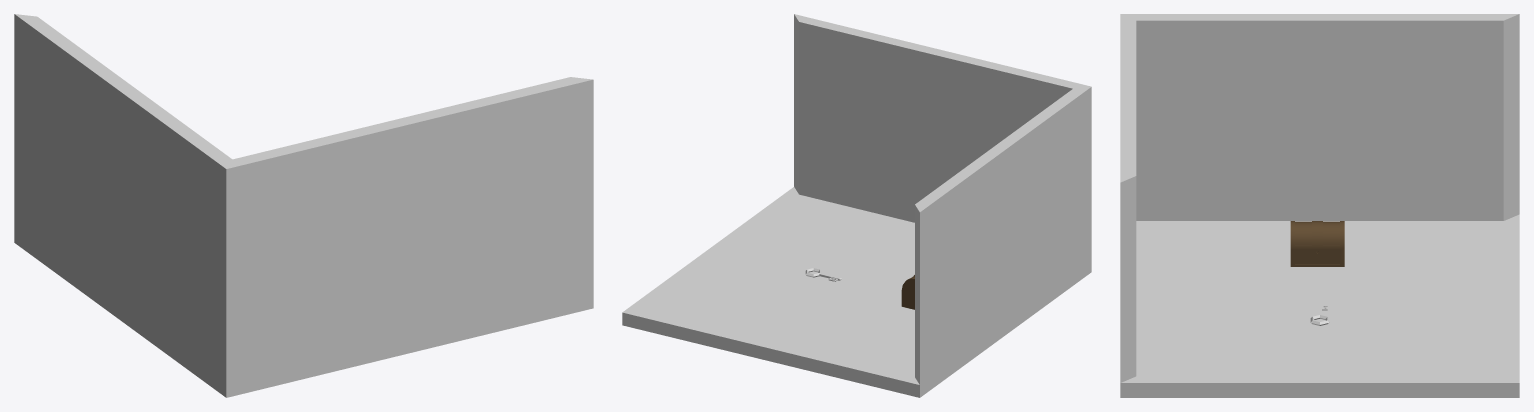
Rendered from Enigma_Placeholder.fbx.
The picture shows the model from 3 angles, left to right: view 1: azimuth 30°, elevation 25°; view 2: azimuth 150°, elevation 25°; view 3: azimuth 270°, elevation 25°; orthographic projection. The views are drawn at different scales.
Parts seen in each view (by area): view 1: Cube.130; view 2: Cube.130; view 3: Cube.130, Coffre.
Part boxes in pixels (bbox=[...]): Cube.130: bbox=[14, 14, 593, 397]; Cube.130: bbox=[622, 14, 1091, 397]; Cube.130: bbox=[1120, 14, 1519, 397]; Coffre: bbox=[1290, 221, 1344, 266].
Size of the model in its own units: 7.03 by 4.19 by 7.03.
